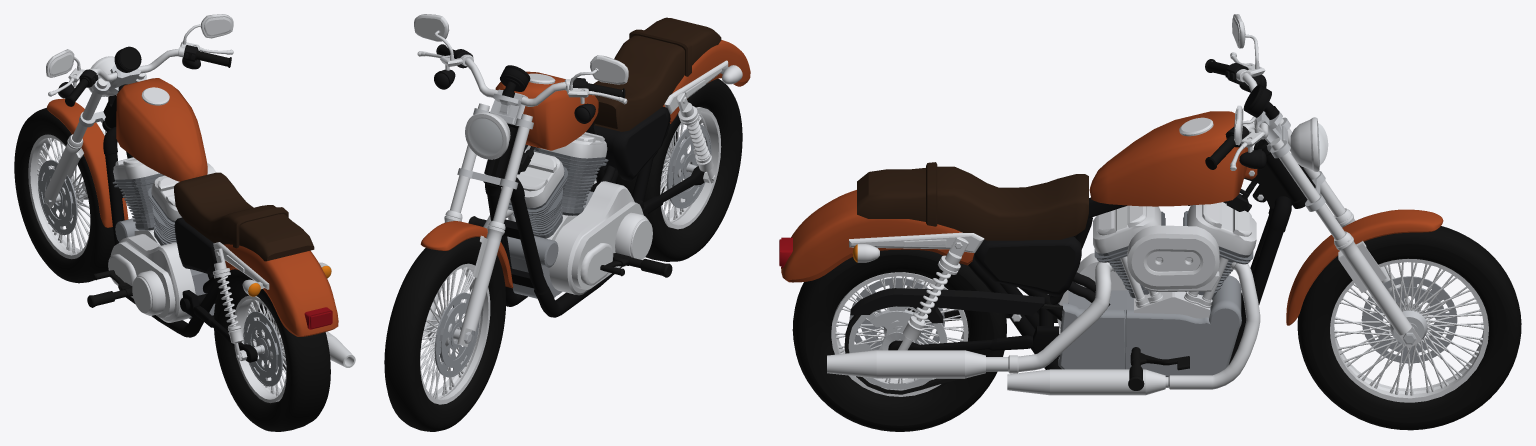
File: sp_rusik.glb
3 views of the same model, side by side, from view 1: azimuth 30°, elevation 25°; view 2: azimuth 150°, elevation 25°; view 3: azimuth 270°, elevation 25° (orthographic). The views are drawn at different scales.
Parts seen in each view (by area): view 1: Cylinder.004_26, Cube_33, Cube.001_1, Cylinder.003_7, Cylinder.001_3, Cylinder.038_51, Cube.002_4, Cylinder.010_14, Cylinder.006_27, Circle.001_89, Cylinder.009_10, Circle_88 (+28 smaller); view 2: Cylinder.003_7, Cube_33, Cylinder.004_26, Cylinder.038_51, Cylinder.010_14, Cylinder.009_10, Cube.001_1, Cube.003_5, Cylinder.006_27, Circle_88, Cylinder.048_65, Cube.005_35 (+26 smaller); view 3: Cylinder.003_7, Cylinder.004_26, Cube_33, Cylinder.018_22, Cube.001_1, Cylinder.019_24, Cylinder.020_25, Cylinder.001_3, Cylinder_2, Cylinder.009_10, Cube.003_5, Cylinder.006_27 (+25 smaller).
Boxes of the visible parts, x1,y1,x2,y2 form: Cylinder.004_26: (214,269,330,431); Cube_33: (174,172,314,261); Cube.001_1: (116,78,207,181); Cylinder.003_7: (14,108,114,283); Cylinder.001_3: (224,244,338,336); Cylinder.038_51: (110,234,195,322); Cube.002_4: (47,98,128,227); Cylinder.010_14: (103,127,221,337); Cylinder.006_27: (28,134,90,259); Circle.001_89: (243,311,282,386); Cylinder.009_10: (44,73,145,208); Circle_88: (38,160,77,235); Cylinder.003_7: (384,237,505,431); Cube_33: (593,17,721,131); Cylinder.004_26: (615,78,742,261); Cylinder.038_51: (549,181,652,295); Cylinder.010_14: (485,123,669,317); Cylinder.009_10: (422,103,532,346); Cube.001_1: (495,71,598,150); Cube.003_5: (593,106,670,181); Cylinder.006_27: (420,263,490,404); Circle_88: (434,292,479,377); Cylinder.048_65: (660,107,721,229); Cube.005_35: (533,147,608,215); Cylinder.003_7: (1297,226,1521,430); Cylinder.004_26: (792,249,1006,431); Cube_33: (857,162,1088,240); Cylinder.018_22: (1058,275,1241,376); Cube.001_1: (1089,111,1257,206); Cylinder.019_24: (827,262,1115,378); Cylinder.020_25: (1007,262,1260,395); Cylinder.001_3: (781,190,974,282); Cylinder_2: (1127,225,1219,291); Cylinder.009_10: (1270,118,1421,348); Cube.003_5: (974,236,1081,296); Cylinder.006_27: (1330,258,1488,402).
Size of the model in its own units: 0.9644 by 1.43 by 2.64.
